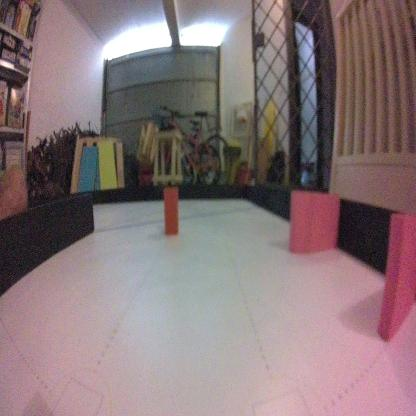magenta: (378, 211, 416, 344), (288, 190, 340, 256)
red: (162, 185, 181, 239)
